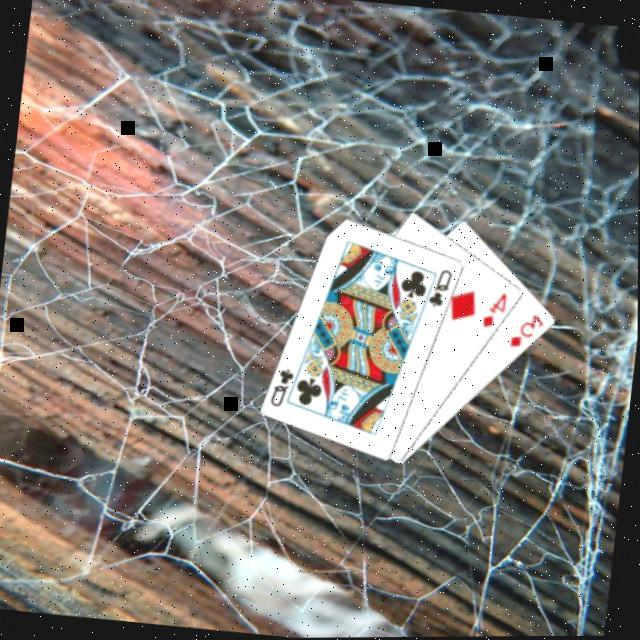3D: (506, 306, 548, 352)
4D: (478, 286, 509, 332)
QC: (266, 362, 297, 409), (425, 264, 455, 310)
